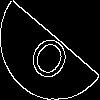O: (25, 24, 78, 86)
